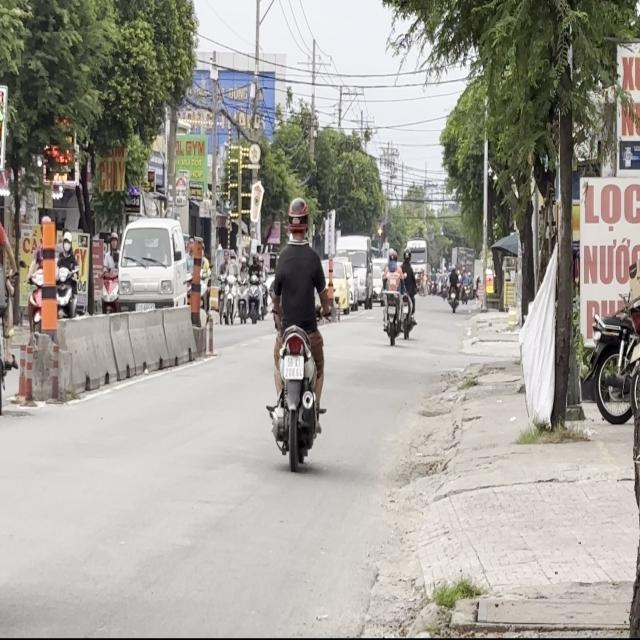helmet: (286, 197, 309, 240)
licenseplate: (265, 195, 330, 468)
nohelmet: (284, 354, 304, 379)
